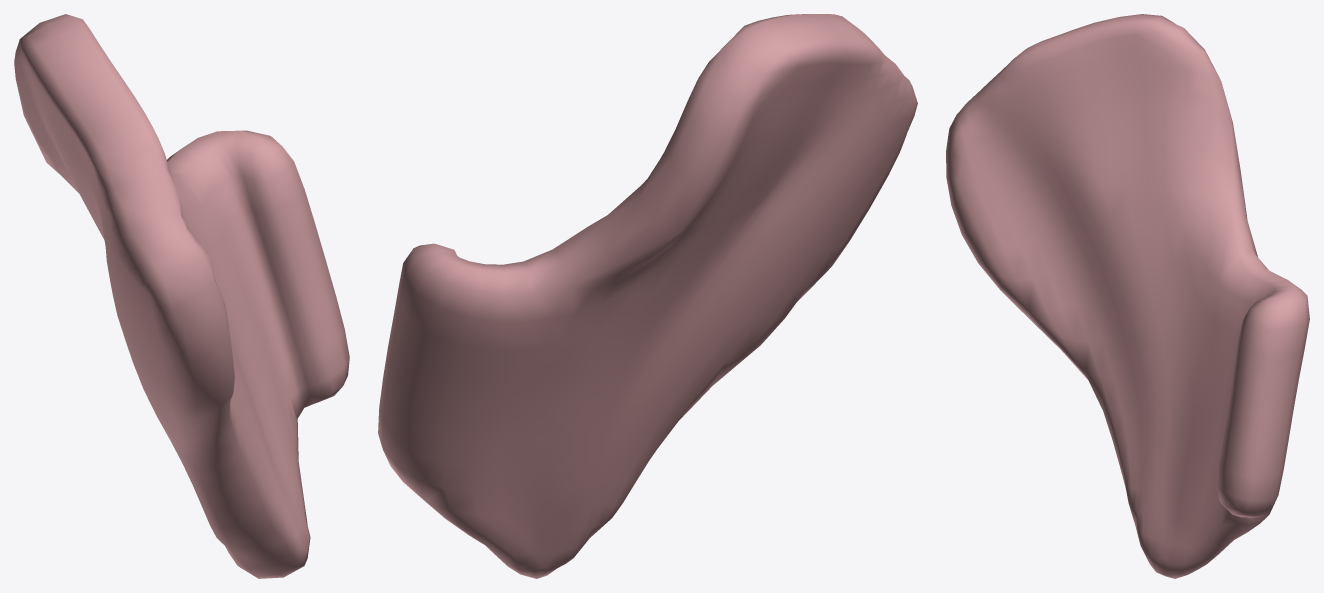
3 renders of one model, left to right at view 1: azimuth 30°, elevation 25°; view 2: azimuth 150°, elevation 25°; view 3: azimuth 270°, elevation 25°, orthographic. The views are drawn at different scales.
Parts seen in each view (by area): view 1: ZA_fa061b55fa71f38c; view 2: ZA_fa061b55fa71f38c; view 3: ZA_fa061b55fa71f38c.
Boxes of the visible parts, x1,y1,x2,y2 form: ZA_fa061b55fa71f38c: (14,14,349,578); ZA_fa061b55fa71f38c: (378,14,917,578); ZA_fa061b55fa71f38c: (946,14,1309,578).
Bounding box in the file's own units: 0.0314 × 0.0476 × 0.0331.
